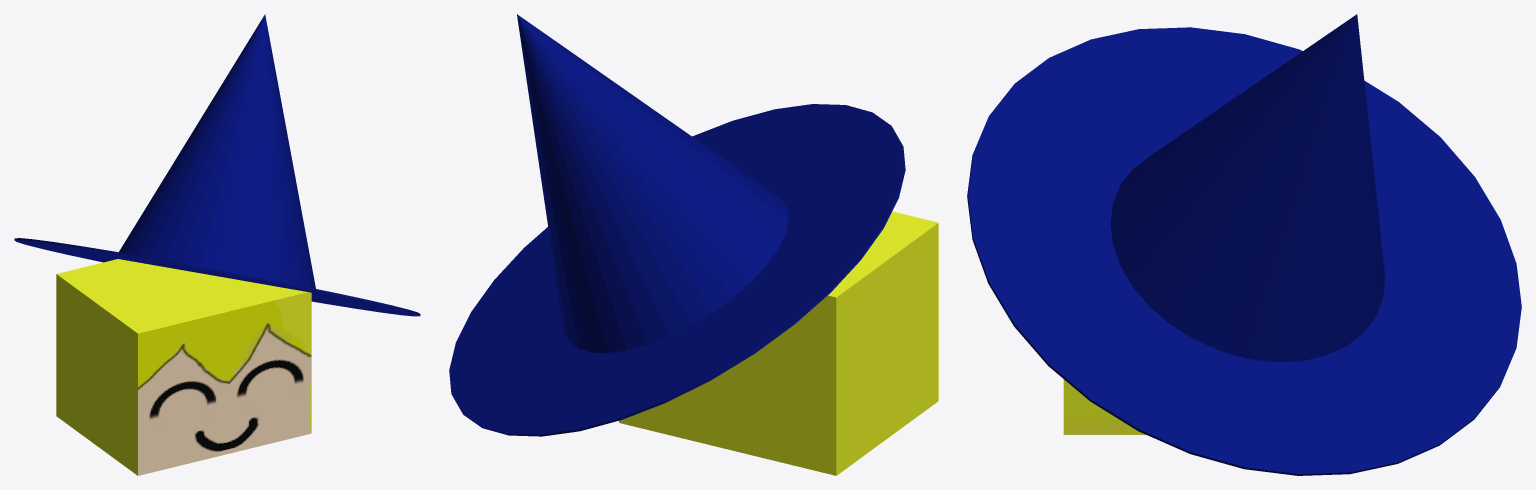
Rendered from player.obj.
3 renders of one model, left to right at view 1: azimuth 30°, elevation 25°; view 2: azimuth 150°, elevation 25°; view 3: azimuth 270°, elevation 25°, orthographic. The views are drawn at different scales.
Parts seen in each view (by area): view 1: 帽子; view 2: 帽子; view 3: 帽子.
Part boxes in pixels (x1,y1,x2,y2): 帽子: (14,14,420,475); 帽子: (449,14,938,475); 帽子: (967,14,1521,475).
Bounding box in the file's own units: 1.85 × 1.76 × 1.92.
